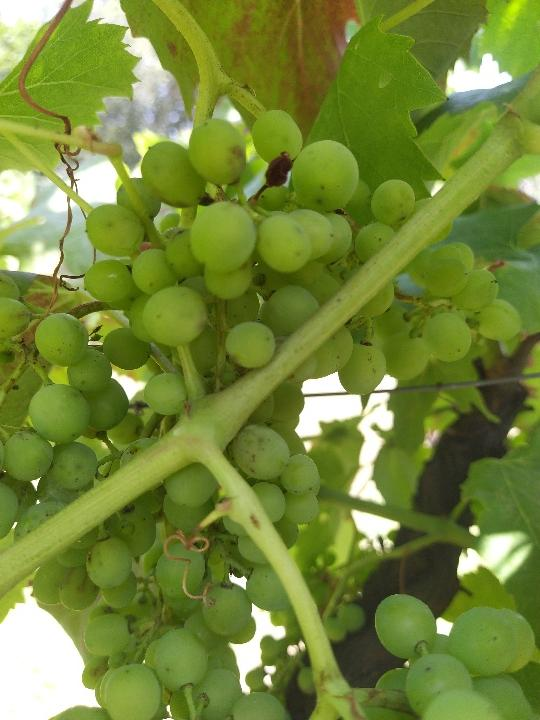grape: (18, 104, 529, 700)
